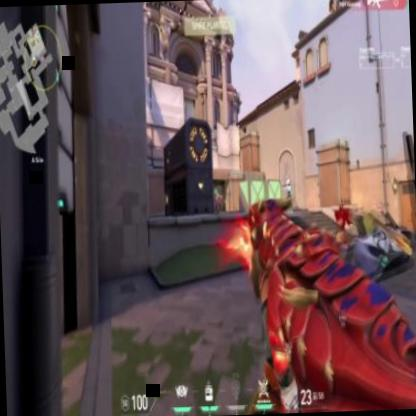enemy: (215, 190, 222, 214)
enemy_head: (216, 190, 219, 196)
